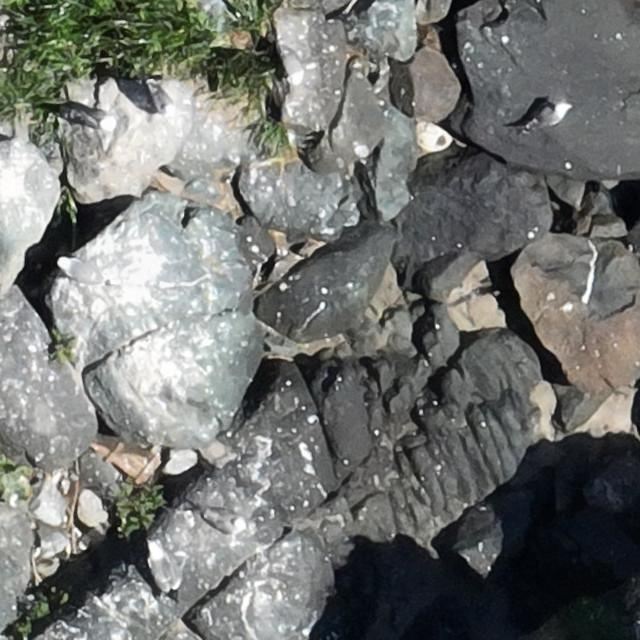umineko: (150, 536, 180, 594), (526, 98, 569, 132), (56, 258, 106, 285), (149, 84, 180, 118), (75, 110, 110, 126)
